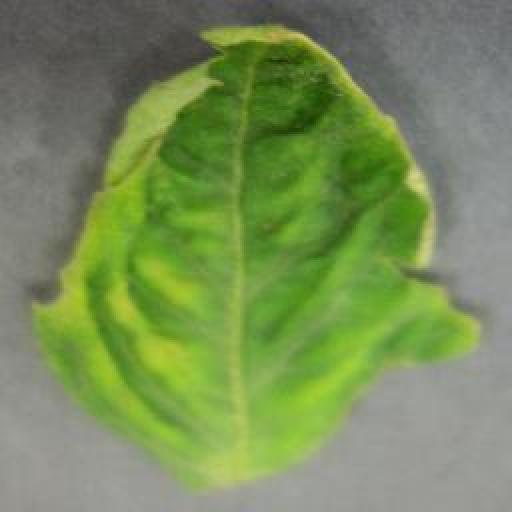Yellow Leaf Curl Virus: (34, 23, 486, 492)
